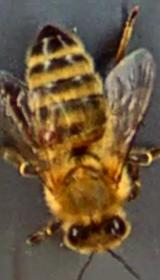varroa_mite: (27, 120, 70, 150)
